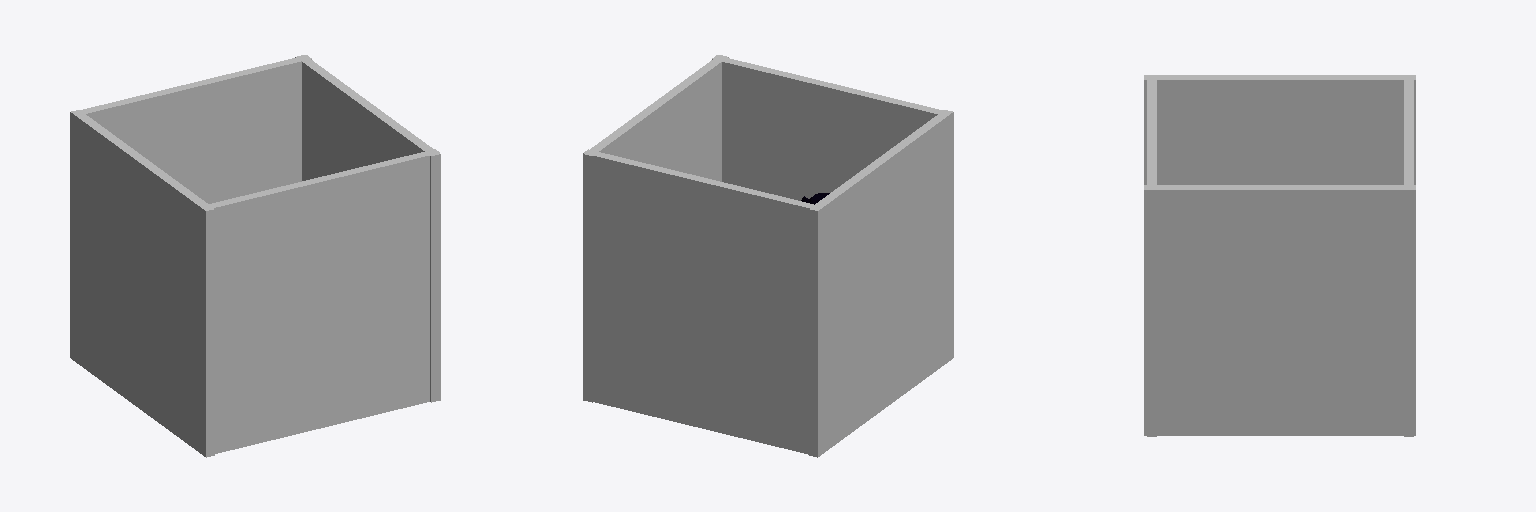
Rendered from roomB.obj.
The picture shows the model from 3 angles: view 1: azimuth 30°, elevation 25°; view 2: azimuth 150°, elevation 25°; view 3: azimuth 270°, elevation 25°; orthographic projection.
Parts seen in each view (by area): view 1: Cube.000_Cube.008, Cube.003_Cube.010, Cube.001_Cube.009, Cube.002_Cube.007; view 2: Cube.001_Cube.009, Cube.003_Cube.010, Cube.000_Cube.008, Cube.002_Cube.007; view 3: Cube.002_Cube.007, Cube.003_Cube.010, Cube.000_Cube.008, Cube.001_Cube.009.
Boxes of the visible parts, x1=… form: Cube.000_Cube.008: x1=201, y1=149, x2=439, y2=453; Cube.003_Cube.010: x1=70, y1=110, x2=214, y2=457; Cube.001_Cube.009: x1=77, y1=55, x2=311, y2=203; Cube.002_Cube.007: x1=295, y1=55, x2=440, y2=402; Cube.001_Cube.009: x1=583, y1=149, x2=822, y2=454; Cube.003_Cube.010: x1=809, y1=110, x2=953, y2=457; Cube.000_Cube.008: x1=712, y1=55, x2=950, y2=200; Cube.002_Cube.007: x1=583, y1=55, x2=728, y2=402; Cube.002_Cube.007: x1=1144, y1=185, x2=1415, y2=435; Cube.003_Cube.010: x1=1144, y1=75, x2=1415, y2=184; Cube.000_Cube.008: x1=1147, y1=75, x2=1156, y2=436; Cube.001_Cube.009: x1=1404, y1=75, x2=1413, y2=436.
Bounding box in the file's own units: 9867 × 9859 × 9859.